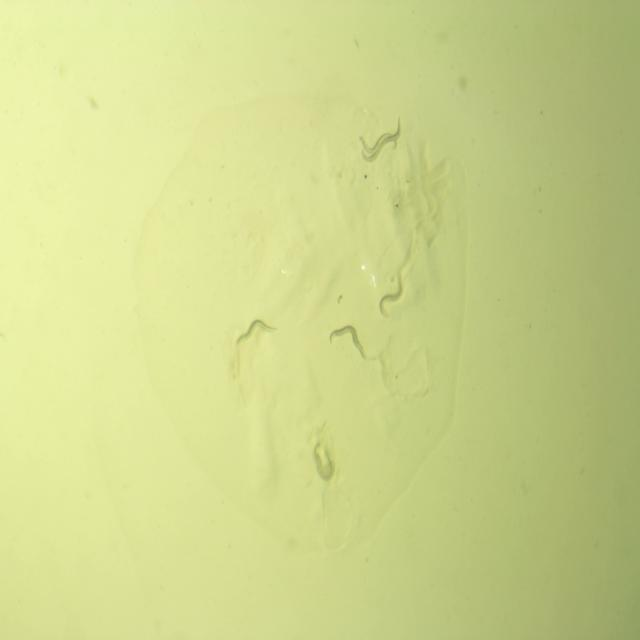worm: (316, 320, 373, 368), (230, 300, 275, 359), (358, 112, 404, 166), (374, 267, 406, 322), (310, 433, 339, 492), (356, 128, 400, 158)
